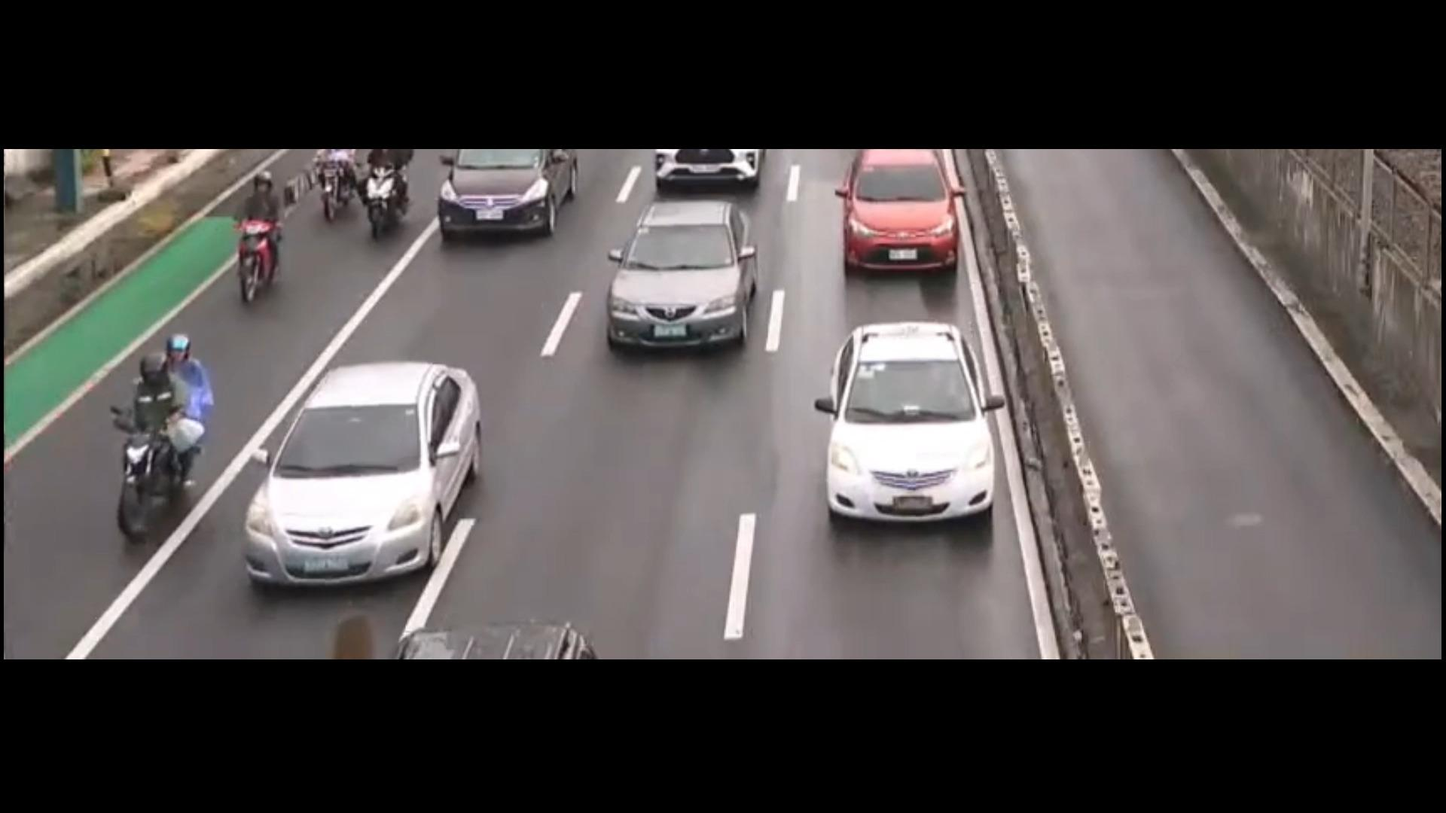Motorcycle: (106, 326, 224, 547), (339, 161, 414, 254), (230, 164, 292, 273), (313, 155, 353, 224)
Sedan: (225, 337, 526, 604), (814, 301, 1012, 538), (597, 197, 805, 369), (433, 149, 582, 254), (830, 152, 968, 263)
